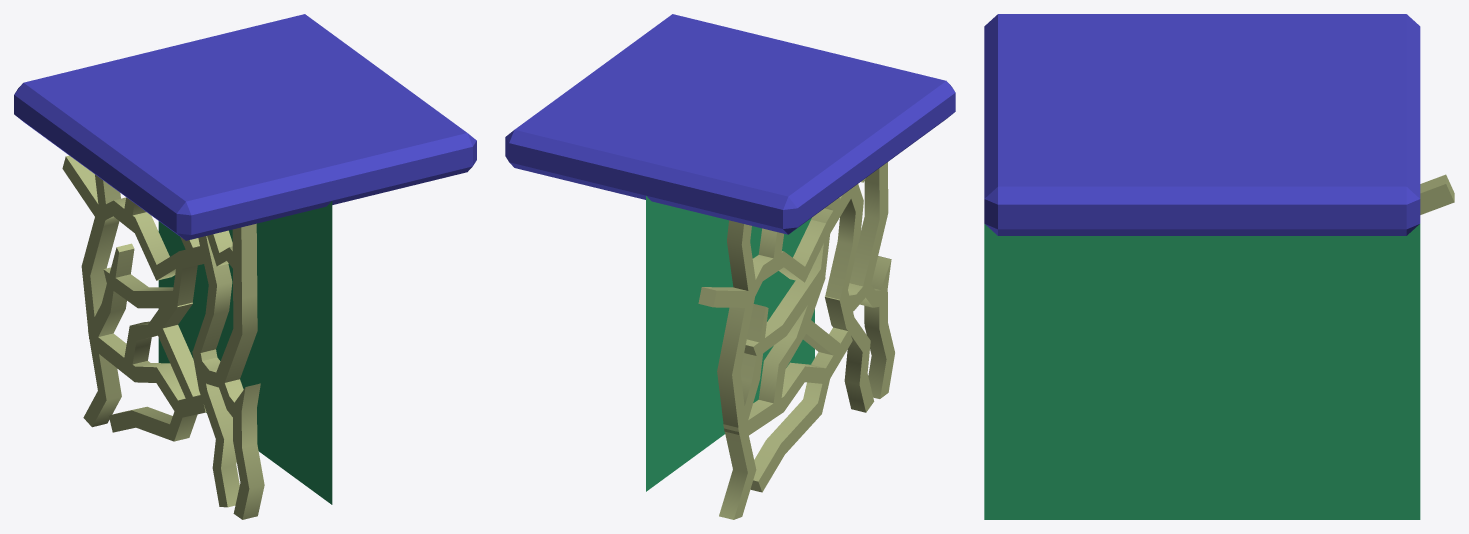
The picture shows the model from 3 angles, left to right: view 1: azimuth 30°, elevation 25°; view 2: azimuth 150°, elevation 25°; view 3: azimuth 270°, elevation 25°; orthographic projection. The views are drawn at different scales.
Visible parts, largest first — view 1: polySurface34; view 2: polySurface34; view 3: polySurface34.
Boxes of the visible parts, x1,y1,x2,y2 form: polySurface34: [14, 14, 476, 519]; polySurface34: [505, 14, 955, 519]; polySurface34: [984, 14, 1454, 519].
Size of the model in its own units: 4 by 4.47 by 4.31.
